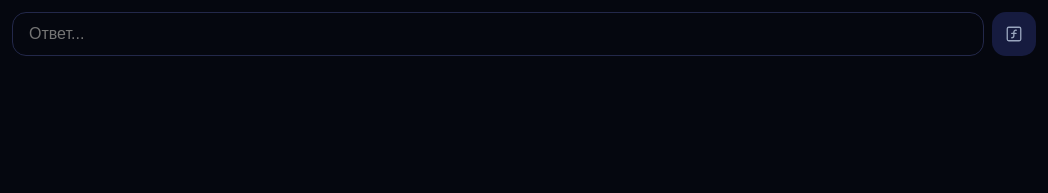
Test: MathAnswerField › inserts √ bare, ready for the radicand to be typed right after
Click the button named "Математические символы" at (1014, 34), box 992,12 -> 1036,56
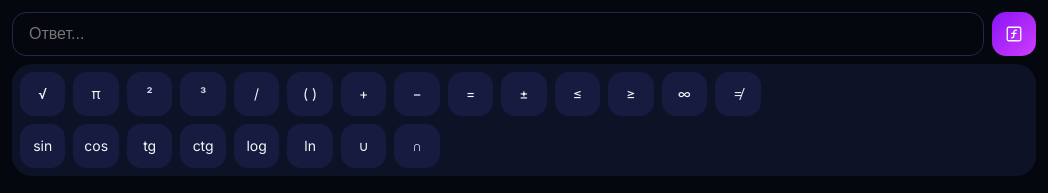
Click the button "√" at (43, 94), box 20,72 -> 66,116
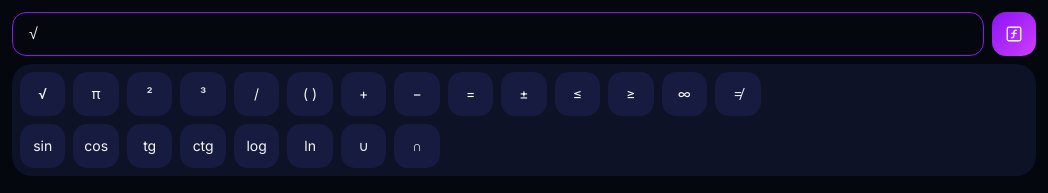
Type "3" into the field named "Ответ" at (498, 34), box 12,12 -> 984,56
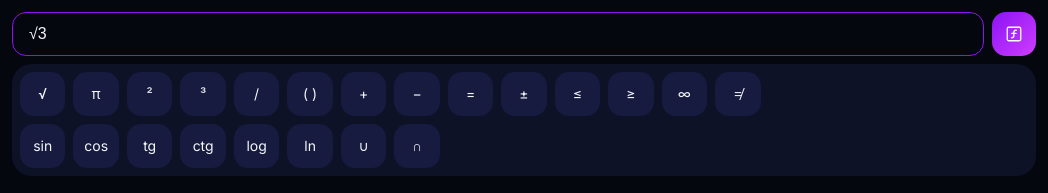
Check: the field named "Ответ" holds "√3", box 12,12 -> 984,56
